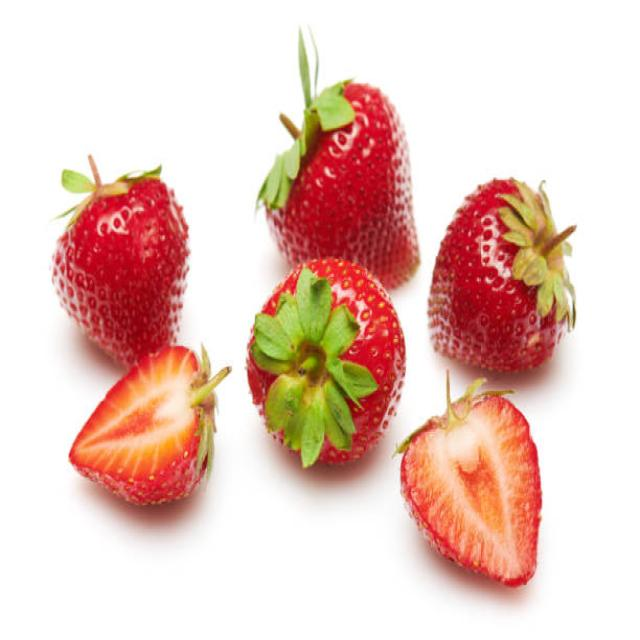Healthy Fruit: (260, 82, 420, 289), (246, 257, 406, 464), (50, 178, 191, 368), (427, 180, 558, 375)
